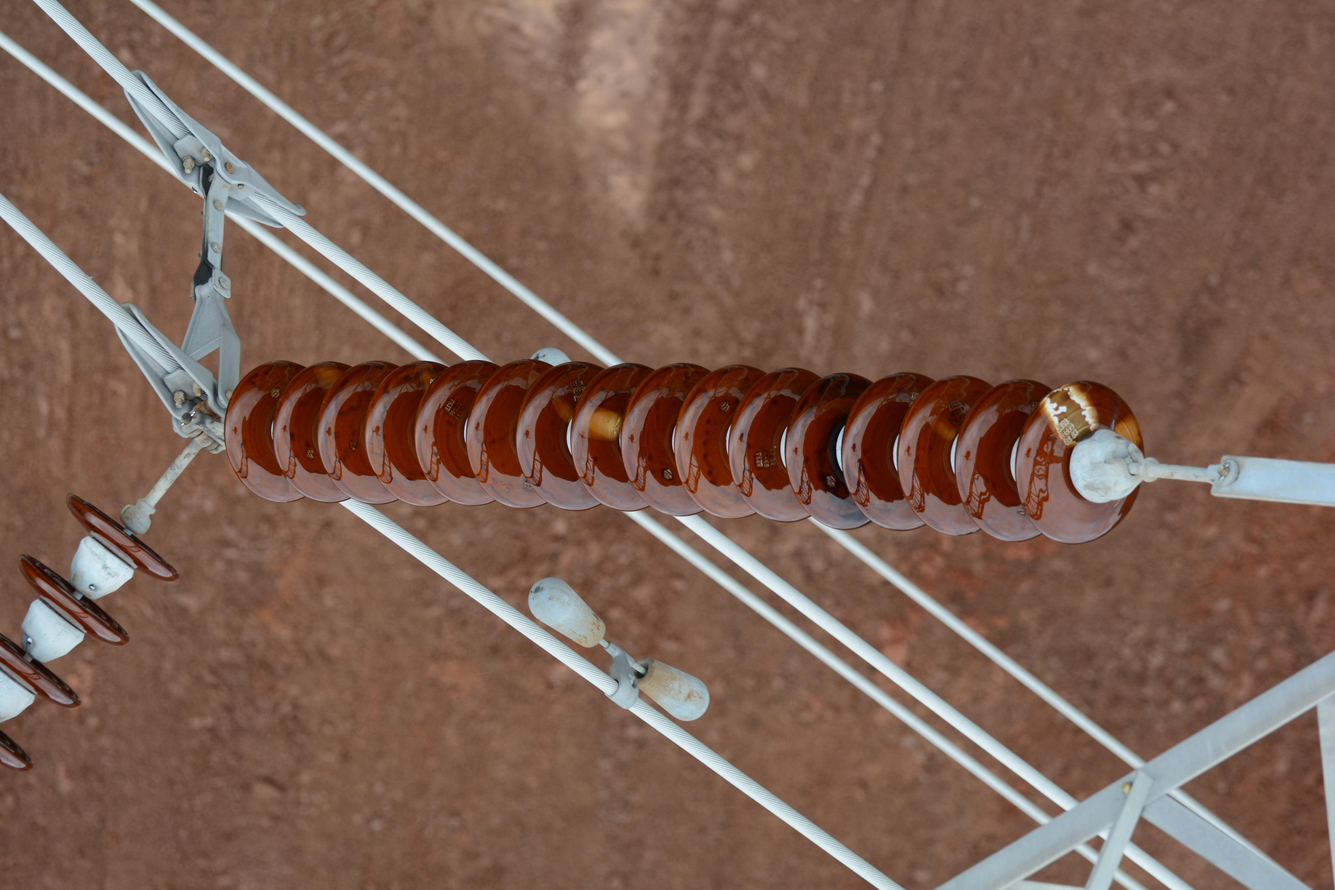Flashover: (1042, 381, 1101, 443), (580, 400, 623, 443), (305, 364, 348, 399), (922, 411, 961, 448), (1115, 415, 1146, 449)
hammer: (522, 585, 711, 728)
insulator: (226, 355, 1137, 545), (0, 494, 181, 771)
